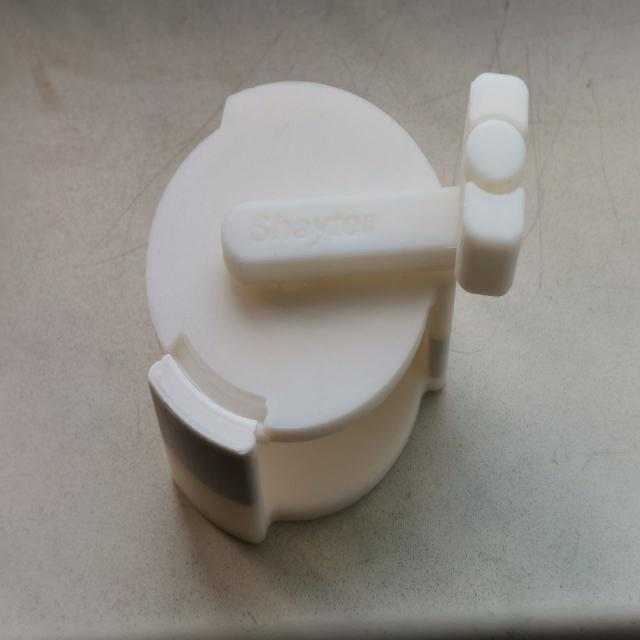Without deffect: (109, 33, 538, 556)
